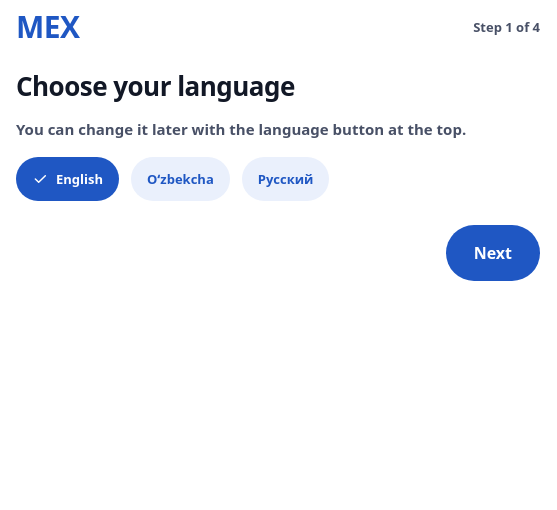
Test: OnboardingPage › shows plain-word levels labelled as an estimate, with no CEFR codes
This screenshot has width=557, height=510.
Click the button "Next".
click(493, 253)  # box left=446, top=225, right=540, bottom=281
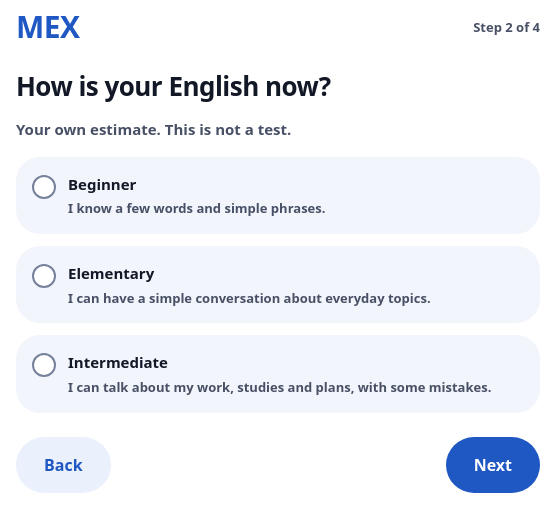
Now the text "Your own estimate. This is not a test." is shown, box left=16, top=119, right=291, bottom=139
Now the text "I know a few words and simple phrases." is shown, box left=68, top=199, right=326, bottom=218
Now the text "I can have a simple conversation about everyday topics." is shown, box left=68, top=288, right=431, bottom=307
